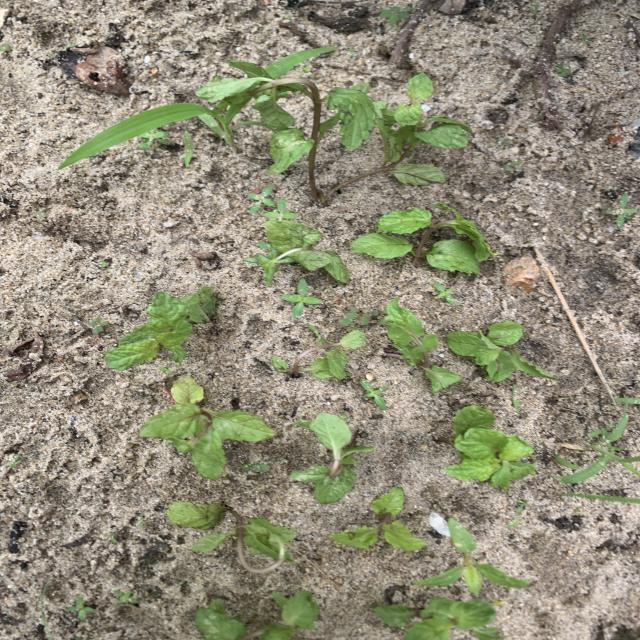crop: (317, 72, 472, 204), (196, 61, 321, 200), (141, 378, 273, 477), (352, 206, 497, 271), (167, 504, 296, 574), (108, 287, 215, 369), (442, 406, 535, 487), (292, 414, 374, 501), (384, 298, 460, 391), (448, 322, 555, 380), (253, 219, 349, 283), (195, 592, 318, 639), (331, 488, 420, 550), (374, 598, 502, 640), (273, 326, 364, 378)
weed: (60, 100, 247, 168), (416, 518, 529, 596), (561, 406, 640, 484), (266, 47, 337, 78), (282, 279, 322, 317), (604, 194, 636, 226), (249, 185, 274, 211), (363, 380, 387, 407), (265, 199, 297, 219), (340, 308, 377, 325), (380, 6, 414, 23), (69, 597, 95, 619), (140, 129, 168, 148), (181, 131, 193, 168), (435, 282, 455, 303), (114, 590, 138, 603), (90, 318, 107, 333), (243, 463, 269, 471), (506, 160, 522, 171), (557, 64, 571, 75), (517, 500, 528, 512), (10, 455, 21, 467), (512, 385, 518, 407), (508, 519, 519, 527), (160, 367, 171, 373)
